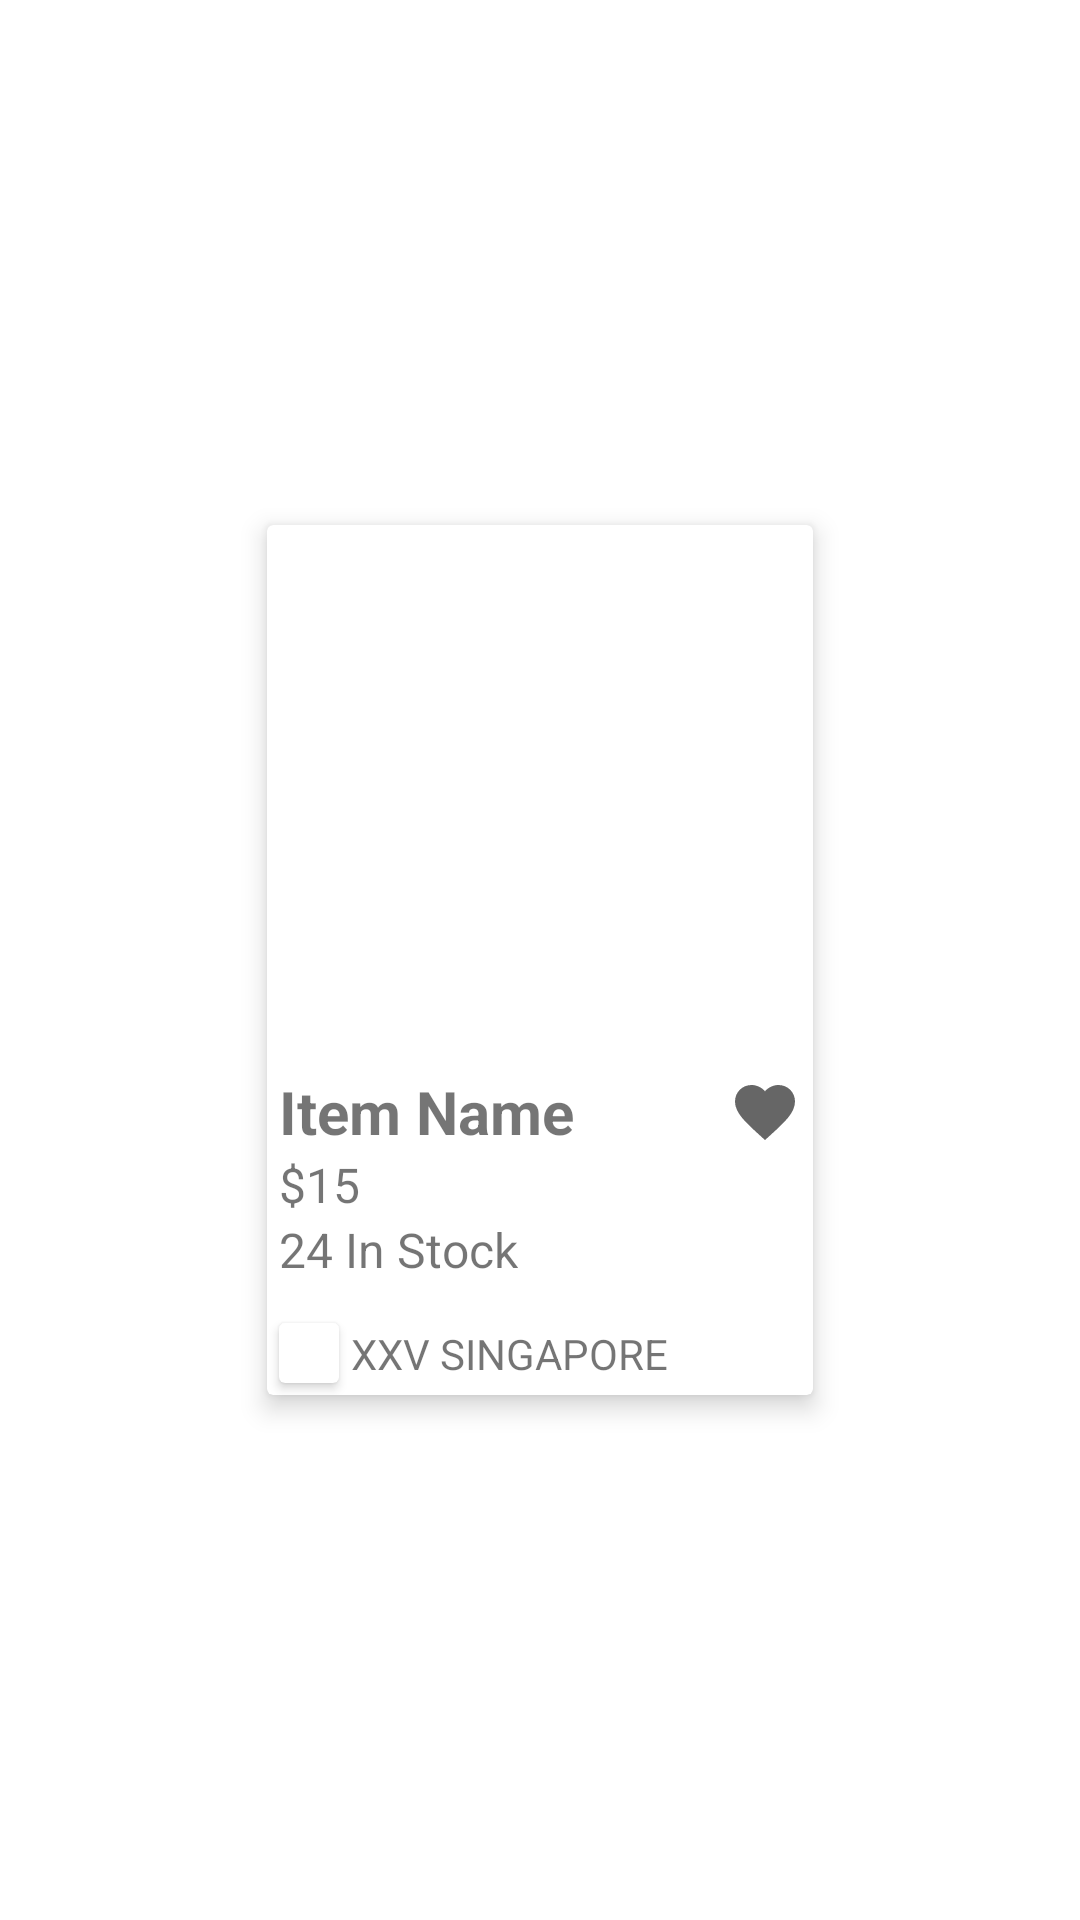

Named icons in this screenshot (1080 x 1920) and their bounding boxes, box=[x1, y1, x2, y2]:
favorite: box=[735, 1085, 795, 1140]
